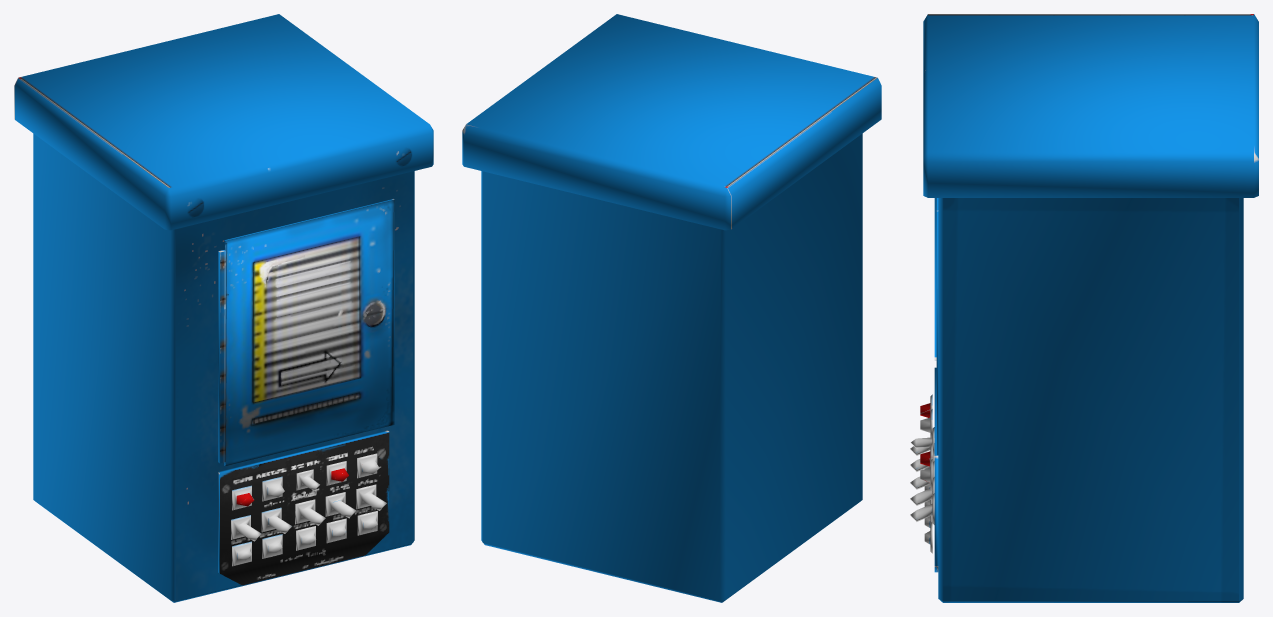
Rendered from ControlBoxTEXTURED.obj.
3 views of the same model, side by side, from view 1: azimuth 30°, elevation 25°; view 2: azimuth 150°, elevation 25°; view 3: azimuth 270°, elevation 25° (orthographic). The views are drawn at different scales.
Parts seen in each view (by area): view 1: ControlBoxTEXTURED.obj; view 2: ControlBoxTEXTURED.obj; view 3: ControlBoxTEXTURED.obj.
Boxes of the visible parts, x1,y1,x2,y2 form: ControlBoxTEXTURED.obj: (14,14,433,602); ControlBoxTEXTURED.obj: (462,14,881,602); ControlBoxTEXTURED.obj: (910,14,1258,602).
Bounding box in the file's own units: 0.88 × 1.32 × 0.9145.
